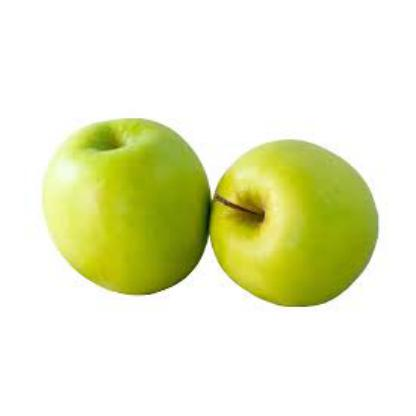apple: (43, 118, 206, 300), (210, 138, 378, 312)
